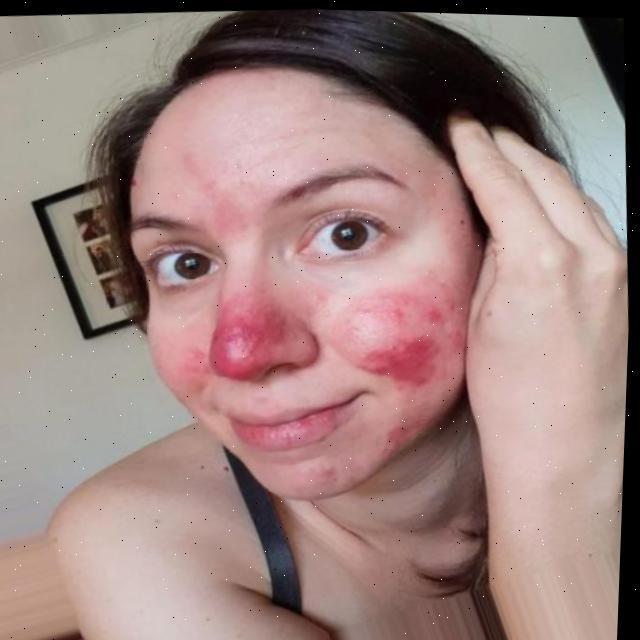Rosacea: (198, 291, 299, 397), (368, 304, 440, 425), (201, 161, 240, 230)
